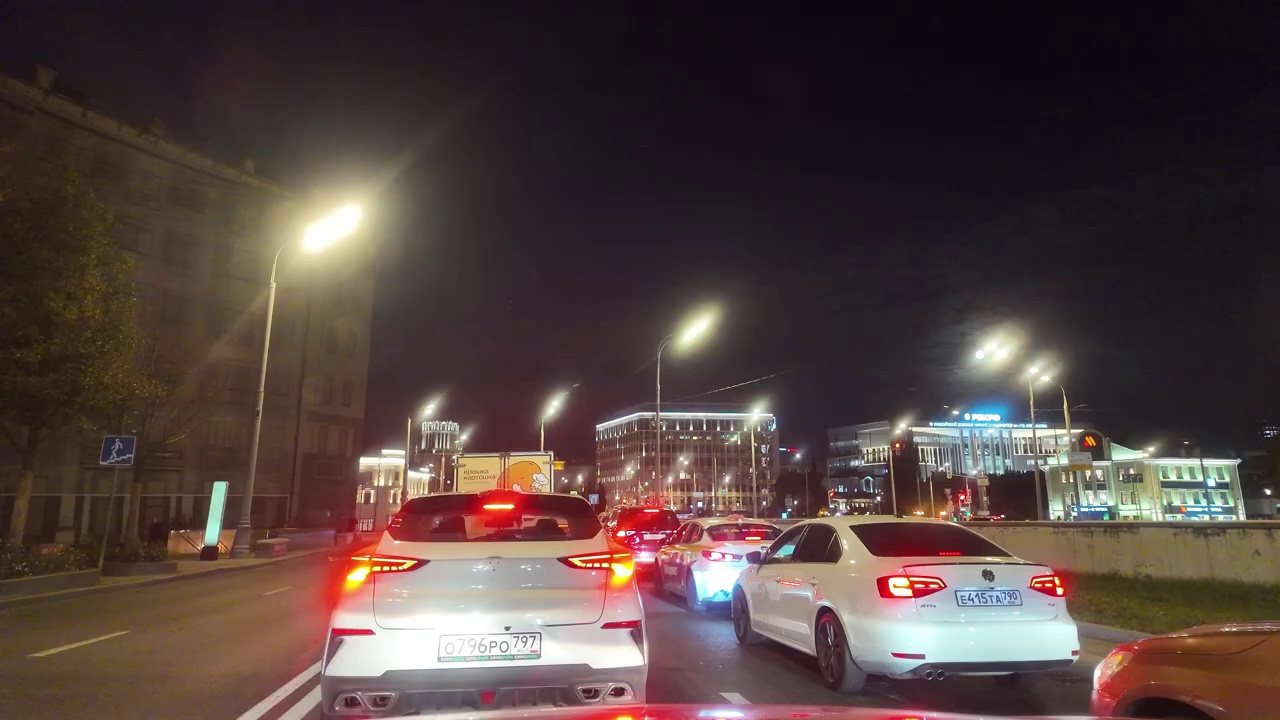acesa: (977, 329, 1062, 400), (297, 202, 367, 258), (665, 302, 721, 360), (973, 328, 1024, 379), (539, 389, 568, 428)
